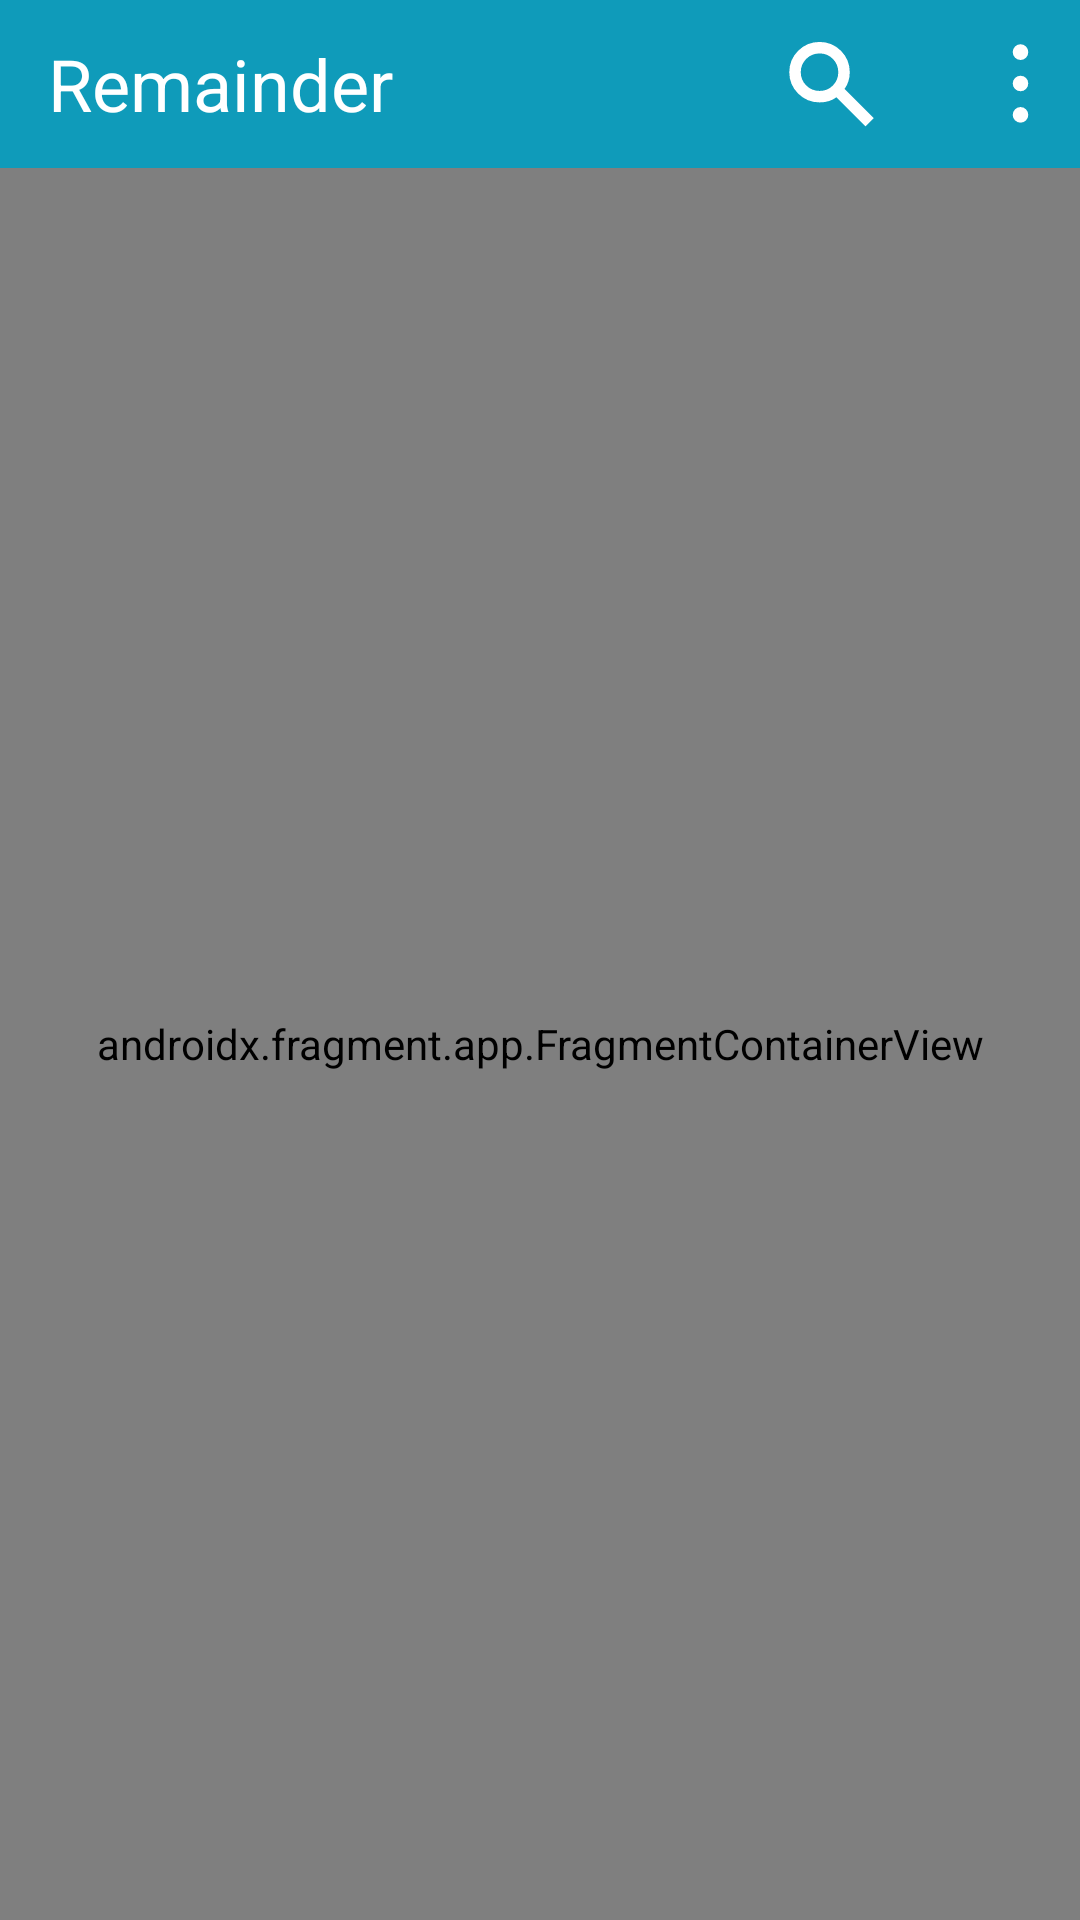

Icon bounding boxes for this 1080w x 1920h phone screenshot, format [left=x1, top=y1, right=x2, bottom=y2]:
menu: [left=1012, top=44, right=1029, bottom=123]
search: [left=789, top=42, right=874, bottom=127]
